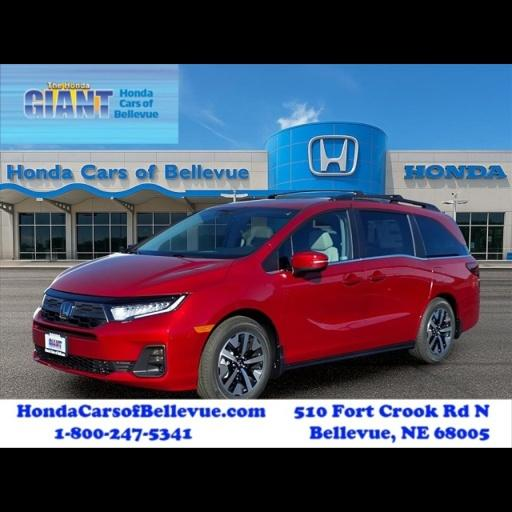hatchback: (32, 191, 479, 397)
